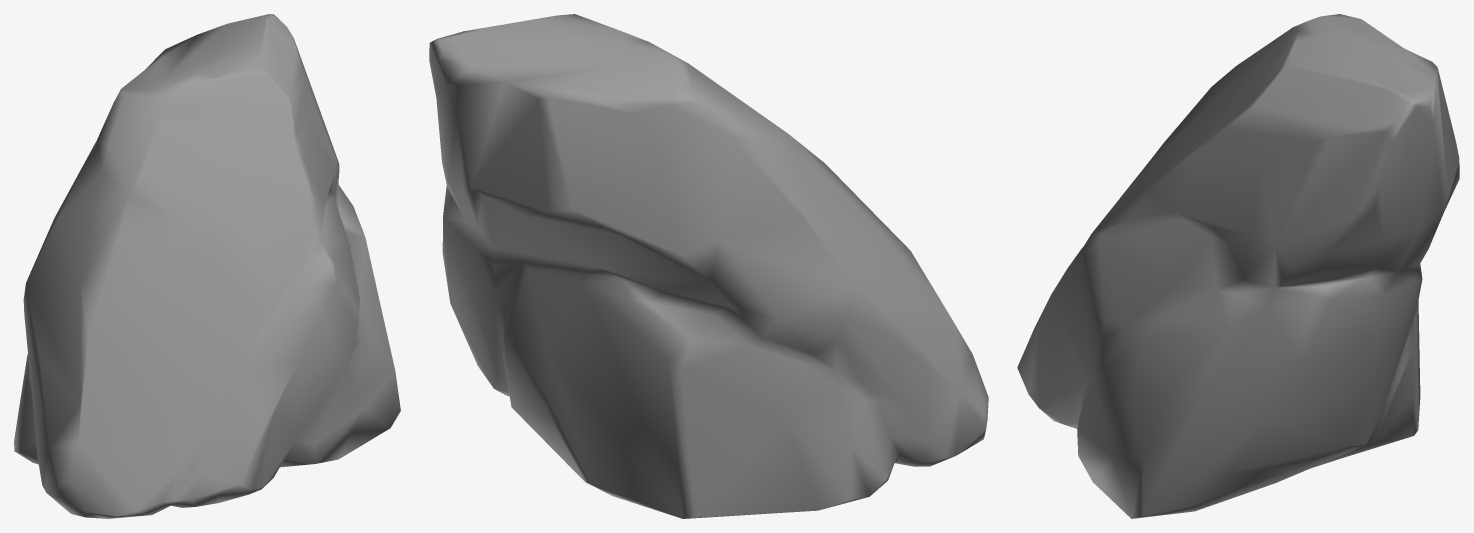
Rendered from Batu7.fbx.
The picture shows the model from 3 angles, left to right: view 1: azimuth 30°, elevation 25°; view 2: azimuth 150°, elevation 25°; view 3: azimuth 270°, elevation 25°; orthographic projection. The views are drawn at different scales.
Parts seen in each view (by area): view 1: SM_Rocks_04; view 2: SM_Rocks_04; view 3: SM_Rocks_04.
Boxes of the visible parts, box(x1,y1,x2,y2) form: SM_Rocks_04: box(14, 14, 400, 518); SM_Rocks_04: box(429, 14, 988, 518); SM_Rocks_04: box(1017, 14, 1459, 518).
Size of the model in its own units: 118 by 105 by 98.3.
